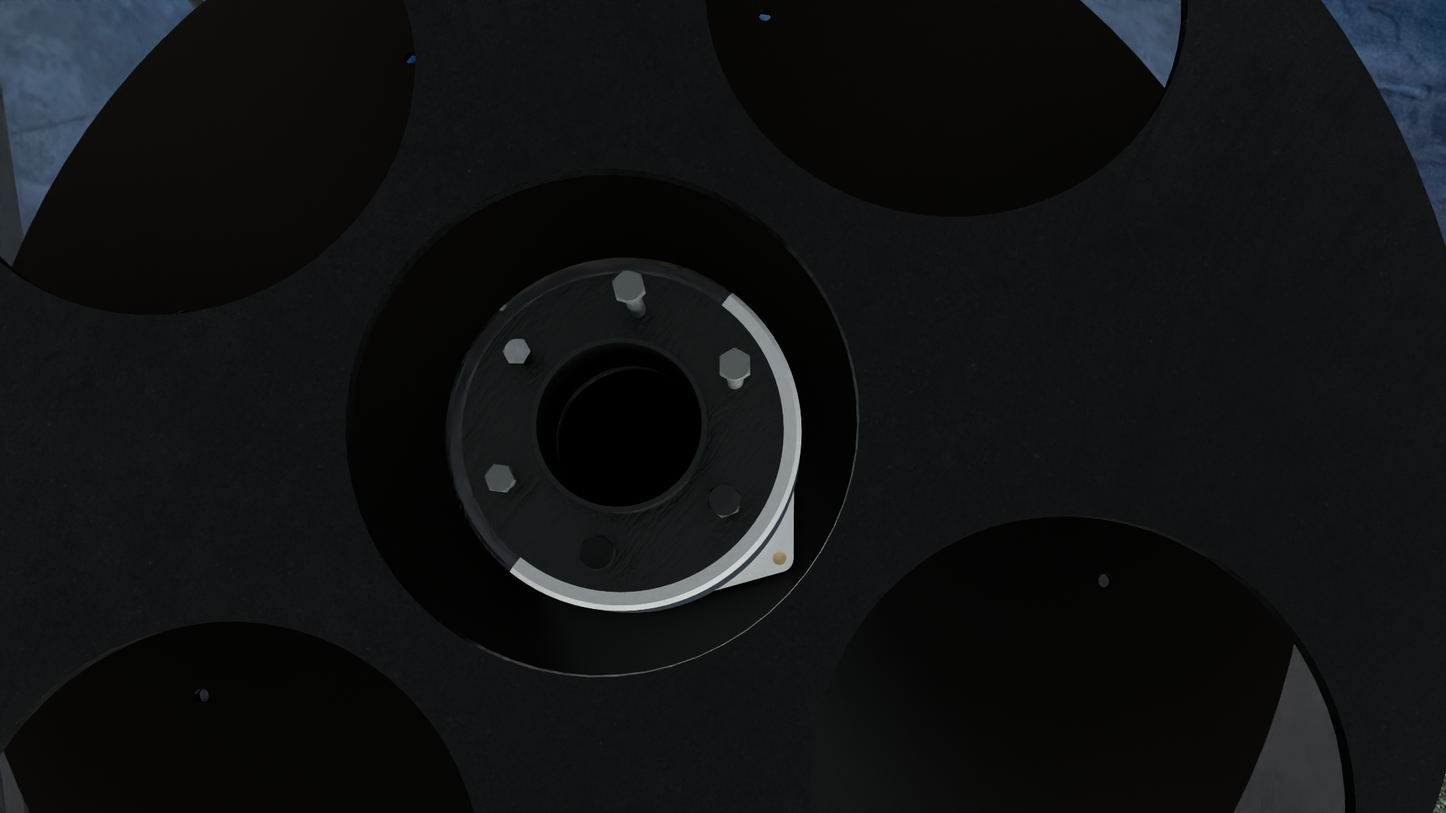bolt: (579, 534, 615, 571), (708, 483, 741, 518), (612, 269, 645, 303), (719, 347, 750, 382), (484, 464, 514, 492), (502, 339, 531, 364)
